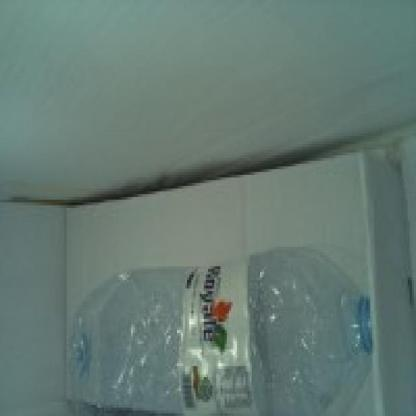Plastic Bottle: (70, 249, 374, 416)
